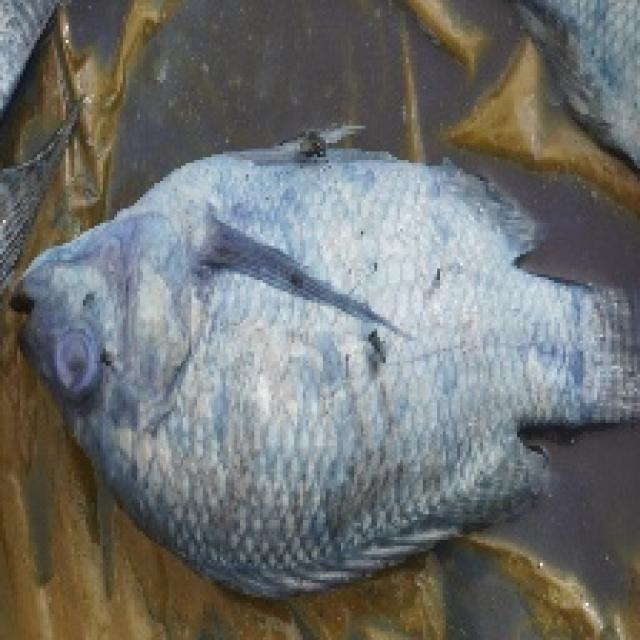Non-Fresh: (169, 151, 512, 529), (51, 308, 139, 415)
